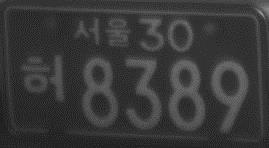0: (165, 17, 196, 54)
3: (122, 56, 162, 129), (135, 16, 166, 53)
8: (167, 59, 207, 131), (81, 57, 118, 129)
9: (207, 59, 251, 135)
서울_O: (73, 16, 133, 50)
허: (20, 52, 65, 104)
